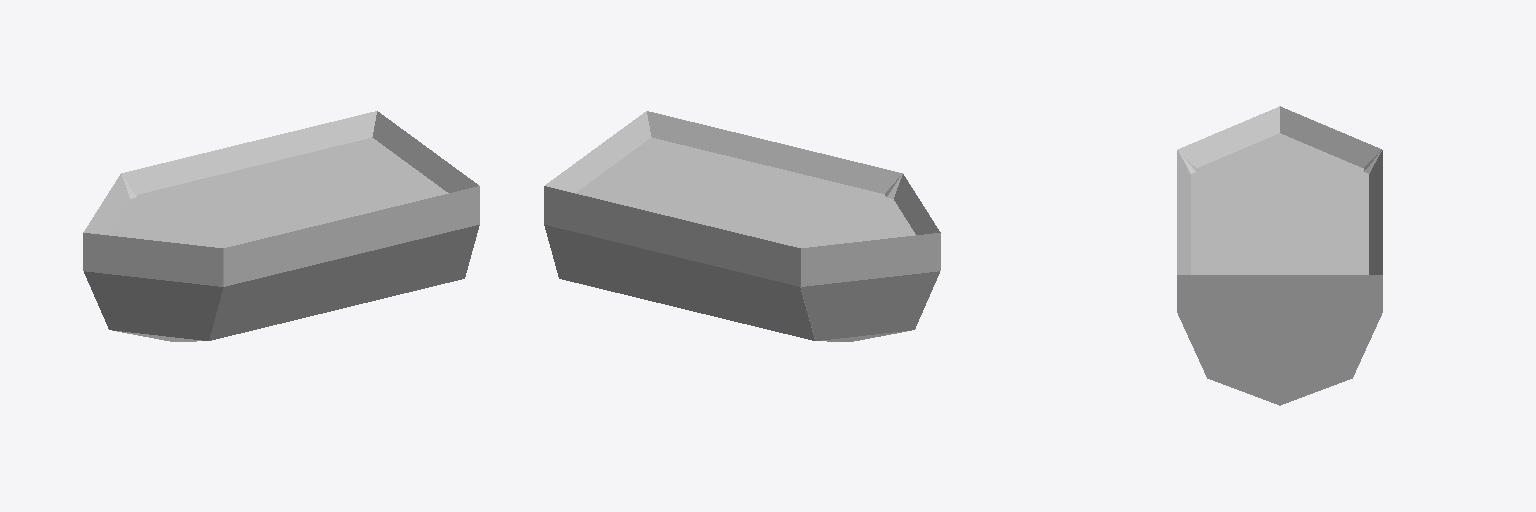
File: Boat.obj
The picture shows the model from 3 angles: view 1: azimuth 30°, elevation 25°; view 2: azimuth 150°, elevation 25°; view 3: azimuth 270°, elevation 25°; orthographic projection.
Parts seen in each view (by area): view 1: Cylinder; view 2: Cylinder; view 3: Cylinder.
Part boxes in pixels (x1,y1,x2,y2): Cylinder: (83,111,479,341); Cylinder: (544,111,940,341); Cylinder: (1177,106,1382,405).
Size of the model in its own units: 3.87 by 1.4 by 1.99.